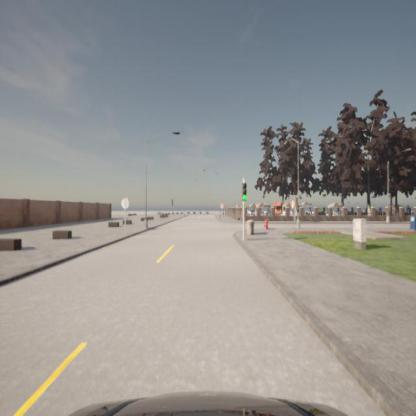traffic_light_green: (242, 182, 247, 202)
